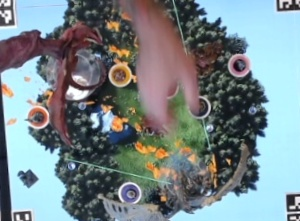blue: (188, 94, 214, 119)
orange: (21, 102, 53, 131)
pink: (224, 50, 252, 79)
red: (157, 75, 183, 99)
violet: (112, 177, 145, 205)
yellow: (106, 59, 134, 86)
